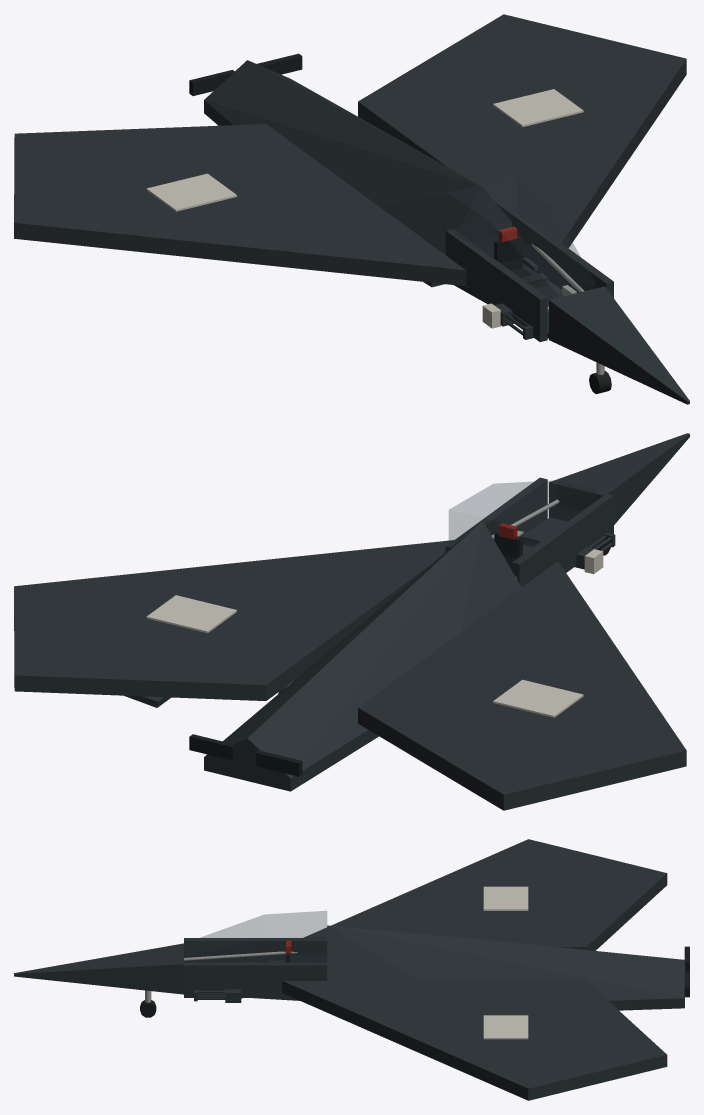
3 renders of one model, top to bottom at view 1: azimuth 30°, elevation 25°; view 2: azimuth 150°, elevation 25°; view 3: azimuth 270°, elevation 25°, orthographic. The views are drawn at different scales.
Parts seen in each view (by area): view 1: stealth-jet-painted, stealth-canopy-glazing, crew-chair-pilot-painted, machine-gun-fixed-pitch-stealth-left-painted; view 2: stealth-jet-painted, stealth-canopy-glazing, crew-chair-pilot-painted, machine-gun-fixed-pitch-stealth-left-painted; view 3: stealth-jet-painted, stealth-canopy-glazing.
Part boxes in pixels (x1,y1,x2,y2): stealth-jet-painted: [14, 14, 689, 404]; stealth-canopy-glazing: [449, 176, 595, 312]; crew-chair-pilot-painted: [494, 226, 548, 287]; machine-gun-fixed-pitch-stealth-left-painted: [482, 303, 513, 328]; stealth-jet-painted: [14, 433, 689, 810]; stealth-canopy-glazing: [449, 480, 595, 569]; crew-chair-pilot-painted: [494, 523, 546, 569]; machine-gun-fixed-pitch-stealth-left-painted: [575, 546, 603, 574]; stealth-jet-painted: [14, 839, 689, 1100]; stealth-canopy-glazing: [184, 911, 326, 963].
Bounding box in the file's own units: 78.16 × 13.45 × 89.47.
